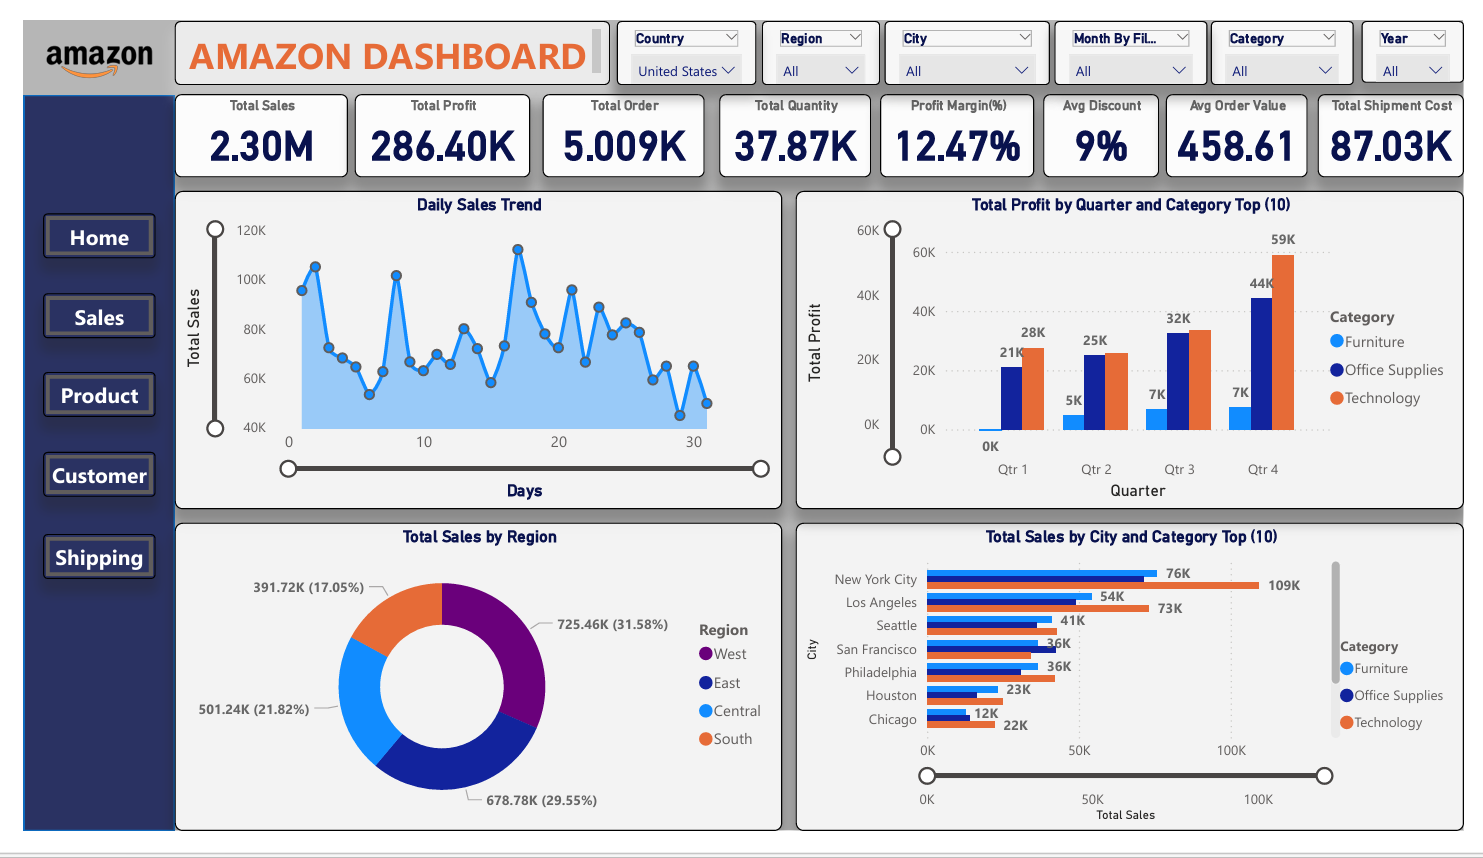

The page's visual inventory and layout, read from the dashboard file:
{"tool":"powerbi","page":{"name":" Home ","canvas":[1280,720],"ordinal":0},"visuals":[{"type":"shape","box":[0,65.6,134.4,654.4],"z":0},{"type":"textbox","box":[134,0,387,57],"z":1000},{"type":"card","title":"Total Sales","fields":{"Values":["All Mesure.Total Sales"]},"box":[133.8,65,153.8,73.8],"z":2000},{"type":"card","title":"Total Profit","fields":{"Values":["All Mesure.Total Profit"]},"box":[293.8,65,156.2,73.8],"z":3000},{"type":"card","title":"Total Quantity","fields":{"Values":["All Mesure.Total Quantity"]},"box":[617.5,65,135,73.8],"z":4000},{"type":"card","title":"Total Order","fields":{"Values":["All Mesure.Total Ordes"]},"box":[461.2,65,143.8,73.8],"z":5000},{"type":"card","title":"Profit Margin(%)","fields":{"Values":["All Mesure.Profit Margin %"]},"box":[761.2,65,136.2,73.8],"z":6000},{"type":"card","title":"Avg Discount","fields":{"Values":["All Mesure.Avg Discount"]},"box":[906.2,65,102.5,73.8],"z":7000},{"type":"card","title":"Total Shipment Cost","fields":{"Values":["All Mesure.Total Shipment Cost"]},"box":[1150,65,130,73.8],"z":8000},{"type":"card","title":"Avg Order Value","fields":{"Values":["All Mesure.Avg Order value"]},"box":[1015,65,126.2,73.8],"z":9000},{"type":"slicer","fields":{"Values":["Amazon Sales.Region"]},"box":[656,0,105,57],"z":10000},{"type":"slicer","fields":{"Values":["Amazon Sales.Year"]},"box":[1189,0,91,55],"z":11000},{"type":"slicer","fields":{"Values":["Amazon Sales.Category"]},"box":[1055,0,127,57],"z":12000},{"type":"slicer","fields":{"Values":["Amazon Sales.City"]},"box":[765,0,147,57],"z":13000},{"type":"slicer","fields":{"Values":["Amazon Sales.Country"]},"box":[527,0,124,57],"z":14000},{"type":"slicer","fields":{"Values":["Amazon Sales.Month Name"]},"box":[916,0,136,57],"z":15000},{"type":"lineChart","title":"Daily Sales Trend","fields":{"Category":["Amazon Sales.Order Date.Variation.Date Hierarchy.Day"],"Y":["All Mesure.Total Sales"]},"box":[134.3,151.4,540,282.9],"z":16000},{"type":"donutChart","fields":{"Category":["Amazon Sales.Region"],"Y":["All Mesure.Total Sales"]},"box":[134.3,445.7,540,274.3],"z":17000},{"type":"clusteredBarChart","title":"Total Sales by City and Category Top (10)","fields":{"Category":["Amazon Sales.City"],"Series":["Amazon Sales.Category"],"Y":["All Mesure.Total Sales"]},"box":[685.7,445.7,594.3,274.3],"z":18000},{"type":"clusteredColumnChart","title":"Total Profit by Quarter and Category Top (10)","fields":{"Y":["All Mesure.Total Profit"],"Category":["Amazon Sales.Order Date.Variation.Date Hierarchy.Quarter"],"Series":["Amazon Sales.Category"]},"box":[685.7,151.4,594.3,282.9],"z":19000},{"type":"actionButton","box":[16.7,242.2,100,40],"z":20000},{"type":"actionButton","box":[16.7,171.1,100,40],"z":21000},{"type":"actionButton","box":[16.7,312.2,100,40],"z":22000},{"type":"actionButton","box":[16.7,383.3,100,40],"z":23000},{"type":"actionButton","box":[16.7,455.6,100,40],"z":24000},{"type":"image","box":[0,0,134.4,65.6],"z":25000}]}

Visuals, with their boxes in screenshot pixels (x1, y1, x2, y2), scaled from the page's 1280x720 canvas onto the 1483x858 screenshot:
shape: {"x1": 0, "y1": 78, "x2": 156, "y2": 857}
textbox: {"x1": 155, "y1": 0, "x2": 604, "y2": 68}
"Total Sales" card: {"x1": 155, "y1": 77, "x2": 333, "y2": 165}
"Total Profit" card: {"x1": 340, "y1": 77, "x2": 521, "y2": 165}
"Total Quantity" card: {"x1": 715, "y1": 77, "x2": 872, "y2": 165}
"Total Order" card: {"x1": 534, "y1": 77, "x2": 701, "y2": 165}
"Profit Margin(%)" card: {"x1": 882, "y1": 77, "x2": 1040, "y2": 165}
"Avg Discount" card: {"x1": 1050, "y1": 77, "x2": 1169, "y2": 165}
"Total Shipment Cost" card: {"x1": 1332, "y1": 77, "x2": 1482, "y2": 165}
"Avg Order Value" card: {"x1": 1176, "y1": 77, "x2": 1322, "y2": 165}
slicer - Amazon Sales.Region: {"x1": 760, "y1": 0, "x2": 882, "y2": 68}
slicer - Amazon Sales.Year: {"x1": 1378, "y1": 0, "x2": 1482, "y2": 66}
slicer - Amazon Sales.Category: {"x1": 1222, "y1": 0, "x2": 1369, "y2": 68}
slicer - Amazon Sales.City: {"x1": 886, "y1": 0, "x2": 1057, "y2": 68}
slicer - Amazon Sales.Country: {"x1": 611, "y1": 0, "x2": 754, "y2": 68}
slicer - Amazon Sales.Month Name: {"x1": 1061, "y1": 0, "x2": 1219, "y2": 68}
"Daily Sales Trend" lineChart: {"x1": 156, "y1": 180, "x2": 781, "y2": 518}
donutChart - Amazon Sales.Region x All Mesure.Total Sales: {"x1": 156, "y1": 531, "x2": 781, "y2": 857}
"Total Sales by City and Category Top (10)" clusteredBarChart: {"x1": 794, "y1": 531, "x2": 1482, "y2": 857}
"Total Profit by Quarter and Category Top (10)" clusteredColumnChart: {"x1": 794, "y1": 180, "x2": 1482, "y2": 518}
actionButton: {"x1": 19, "y1": 289, "x2": 135, "y2": 336}
actionButton: {"x1": 19, "y1": 204, "x2": 135, "y2": 252}
actionButton: {"x1": 19, "y1": 372, "x2": 135, "y2": 420}
actionButton: {"x1": 19, "y1": 457, "x2": 135, "y2": 504}
actionButton: {"x1": 19, "y1": 543, "x2": 135, "y2": 591}
image: {"x1": 0, "y1": 0, "x2": 156, "y2": 78}
